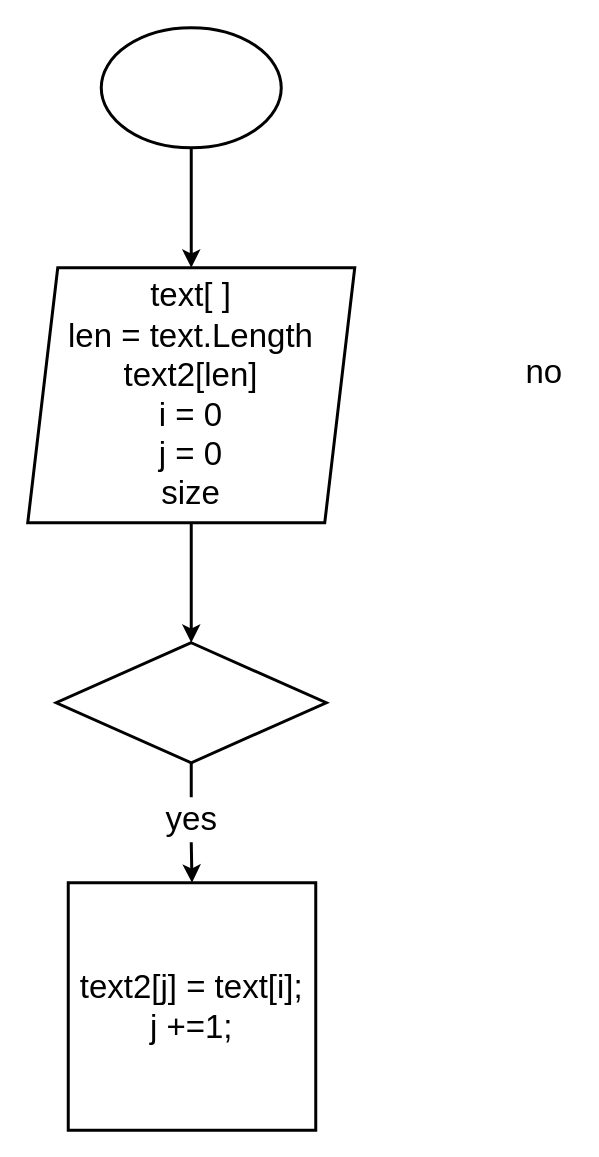
Image size: 599x1157. Some labels were removed from this diagram. Here are the shapes that lost their labels. From the top down, the centre of each, then its label:
At (190,87): "start".
At (190,702): "size <= 3".
